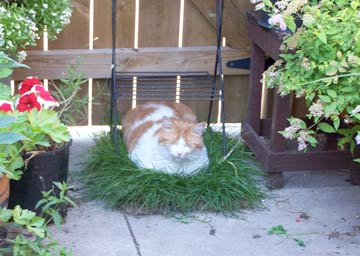cat: (122, 100, 212, 174)
